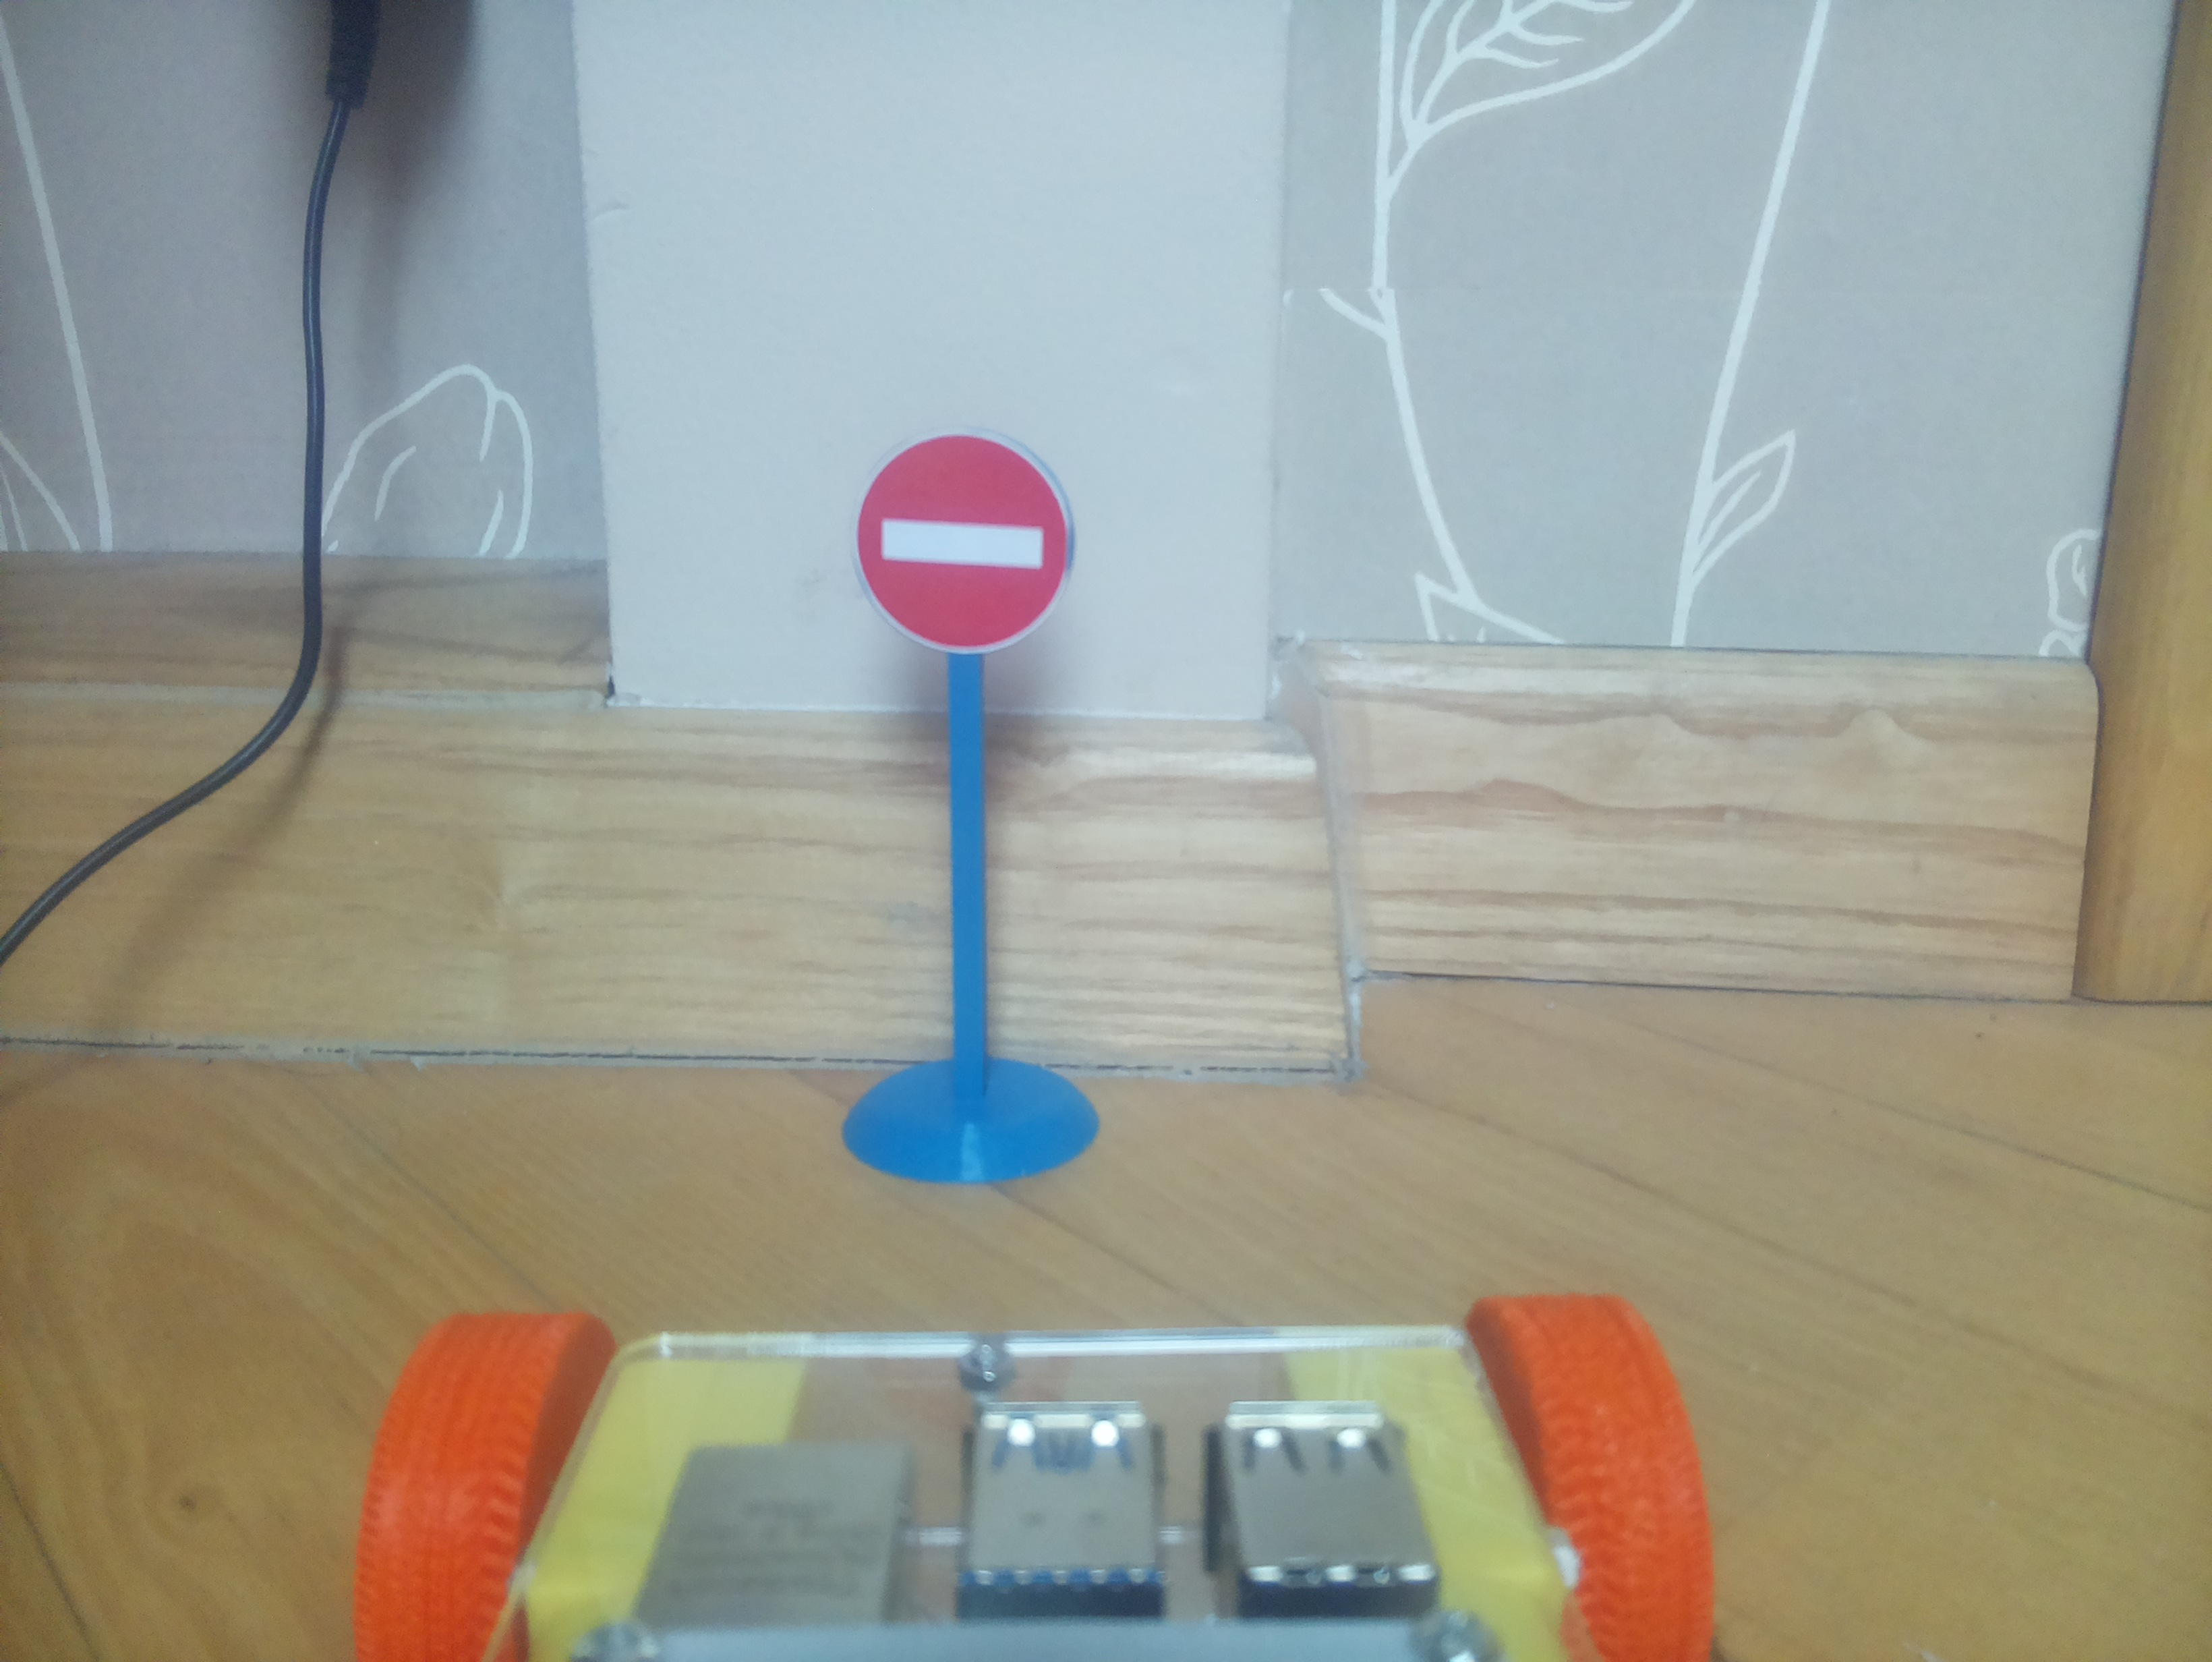brick: (1081, 380, 1210, 517)
